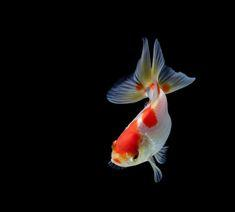goldfish: (81, 65, 209, 185)
